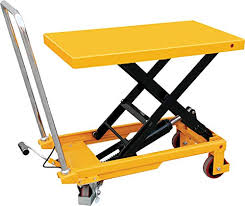Scissor Lift: (1, 1, 245, 203)
